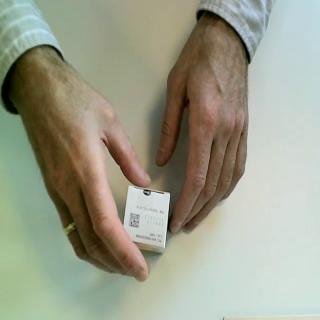xanor2mg: (123, 184, 173, 258)
